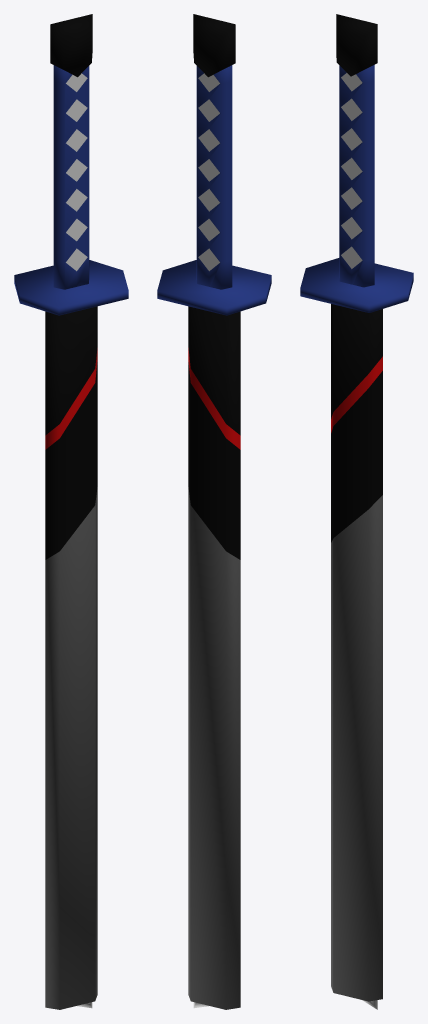
The model's file is GreatKatana.obj.
3 renders of one model, left to right at view 1: azimuth 30°, elevation 25°; view 2: azimuth 150°, elevation 25°; view 3: azimuth 330°, elevation 25°, orthographic.
Visible parts, largest first — view 1: Cube.032, Cube.031; view 2: Cube.032, Cube.031; view 3: Cube.032, Cube.031.
Part boxes in pixels (x1,y1,x2,y2): Cube.032: (45,306,97,1009); Cube.031: (14,14,128,1008); Cube.032: (188,306,240,1009); Cube.031: (157,14,271,1008); Cube.032: (331,304,382,1001); Cube.031: (300,14,413,1009).
Bounding box in the file's own units: 0.1517 × 1.4 × 0.1141.
